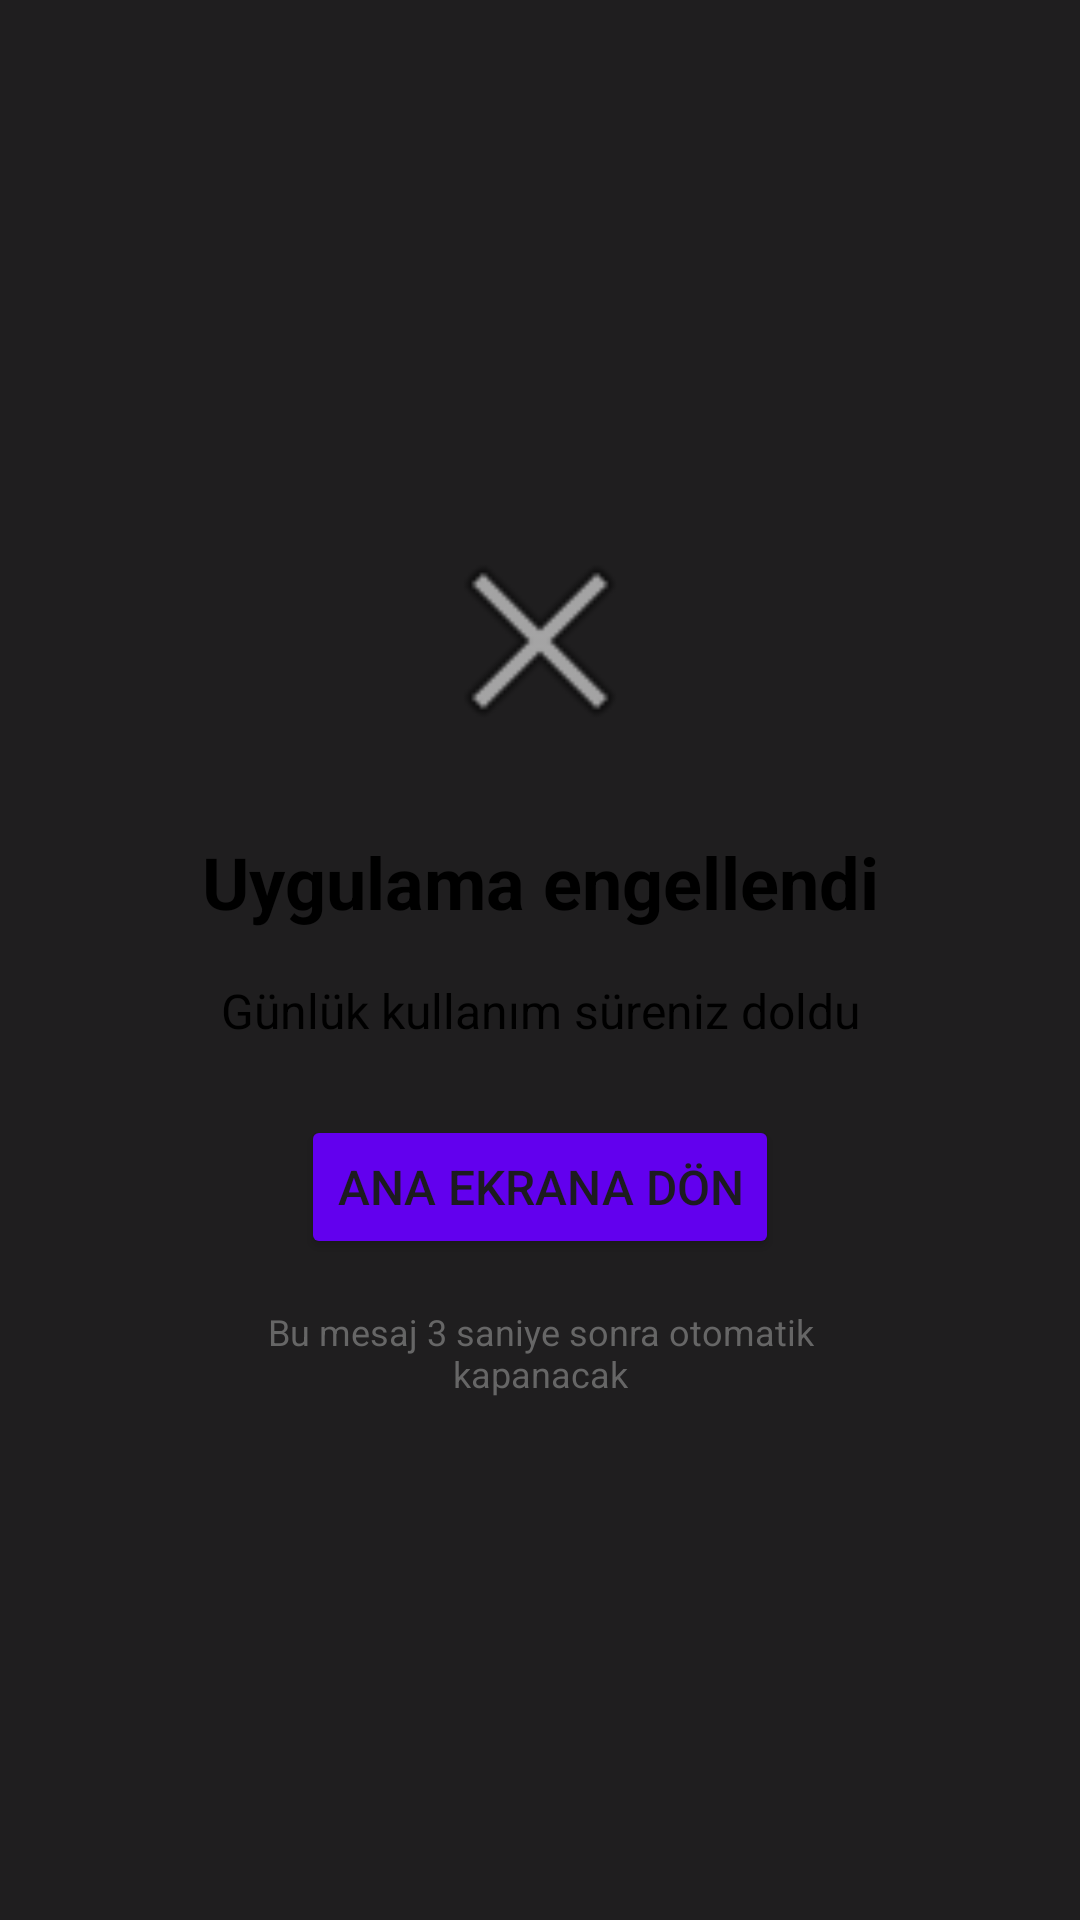

Named icons in this screenshot (1080 x 1920) and their centers, [x,y]:
close clear cancel: [540,641]
